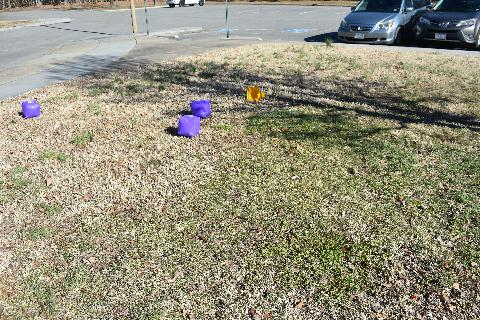cone: (247, 86, 267, 102)
cube: (178, 115, 200, 137), (189, 100, 211, 118), (22, 100, 40, 118)
